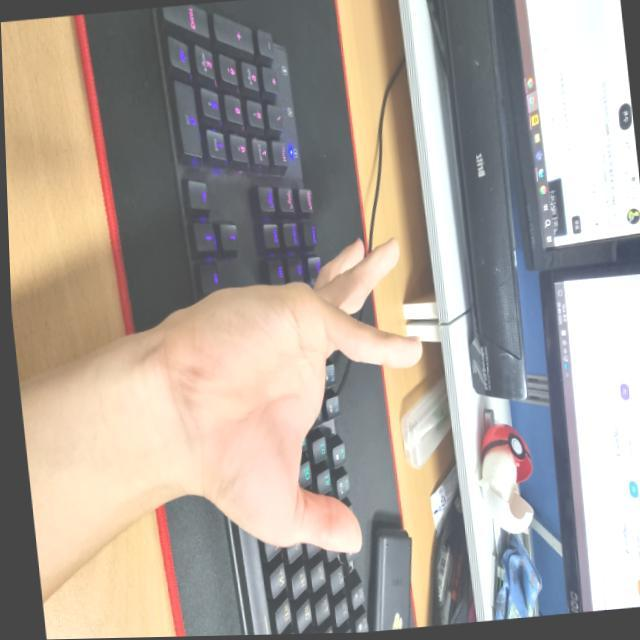keyboard-with-hands: (151, 6, 371, 634)
